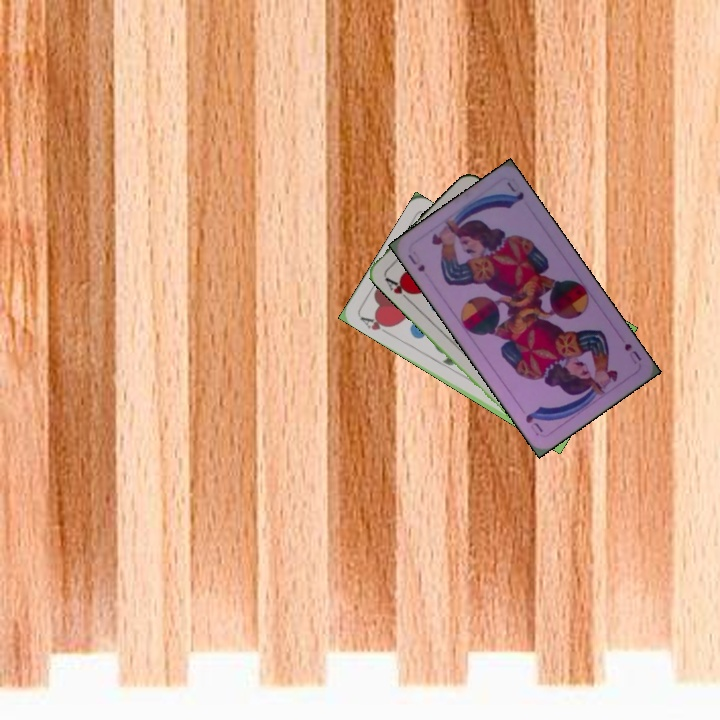HA: (380, 273, 416, 304), (356, 312, 394, 338)
SU: (620, 339, 644, 367), (404, 250, 428, 274)
